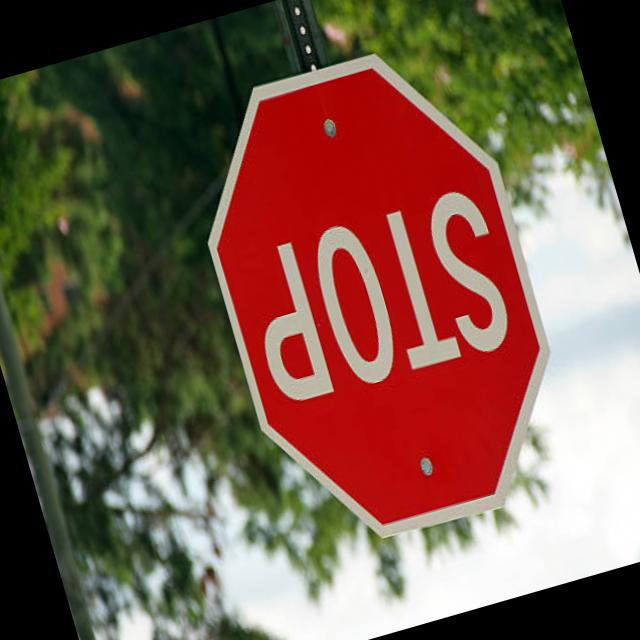stop: (159, 18, 598, 574)
